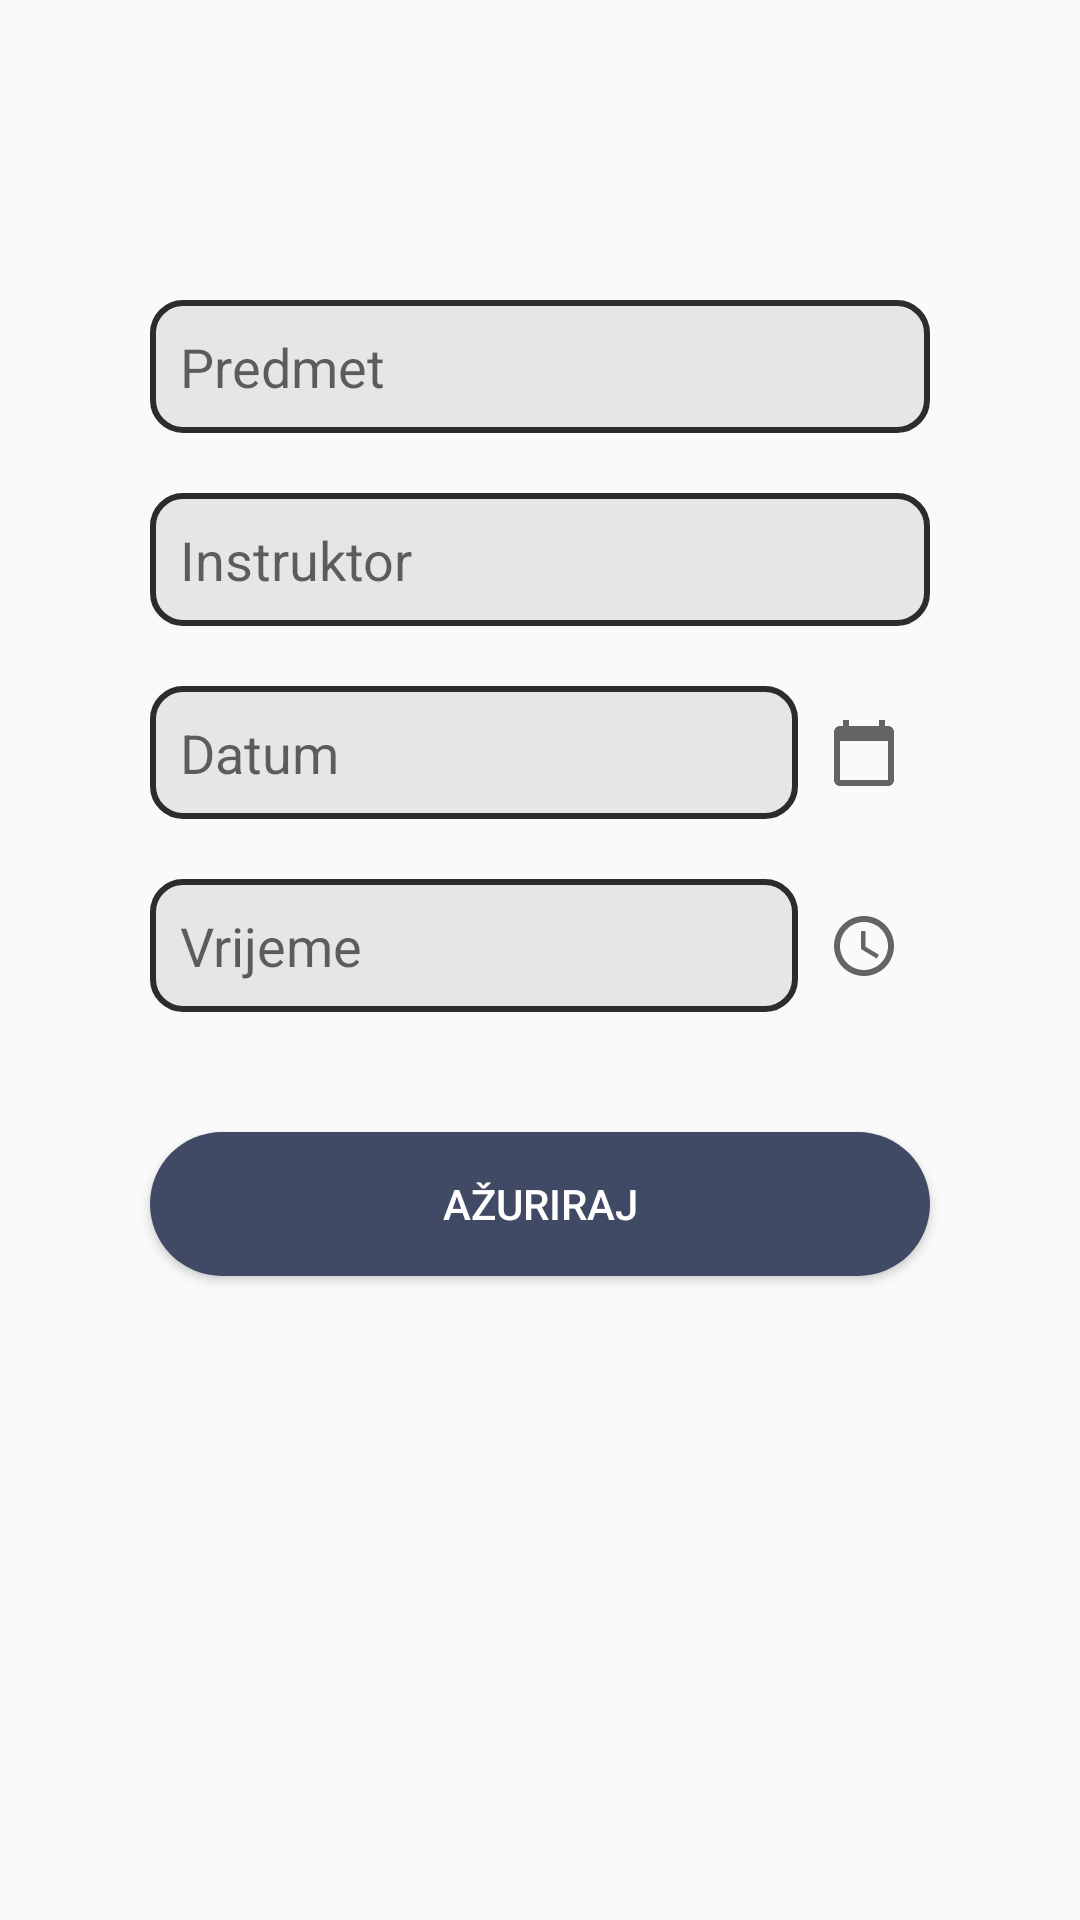

Named icons in this screenshot (1080*1920) and their centers, [x,y]:
calendar: [864,753]
clock: [864,946]
